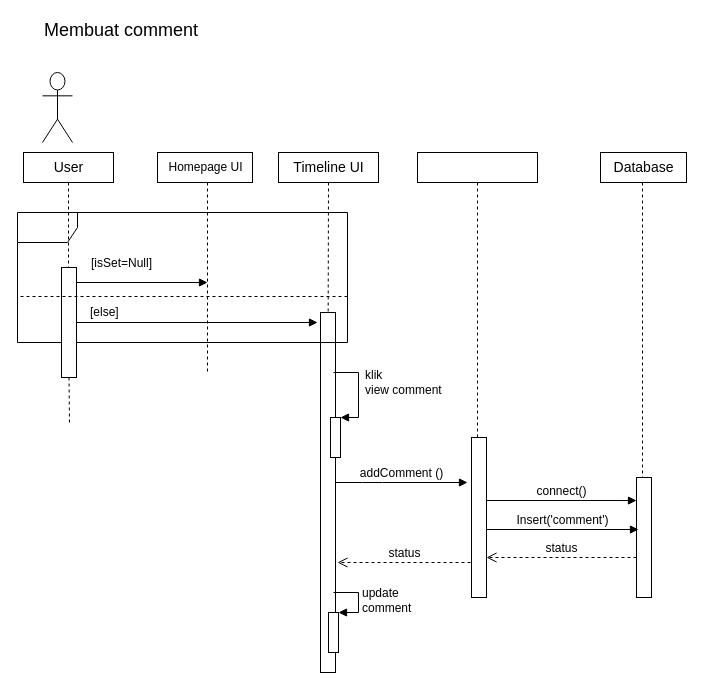
This 704x690 diagram has some shape labels left out. Each missing label, with the box of its shape:
alt: (16, 212, 348, 342)
Comment Model: (416, 152, 538, 182)
